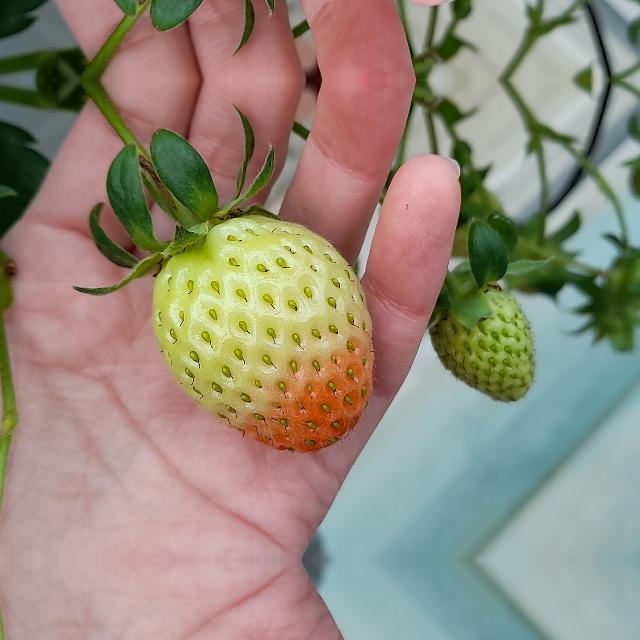Health_50: (152, 214, 374, 453)
